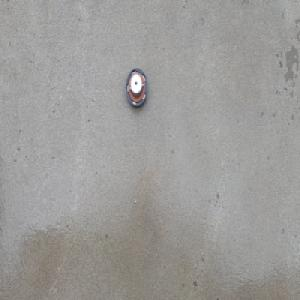FuelCap: (126, 67, 148, 108)
